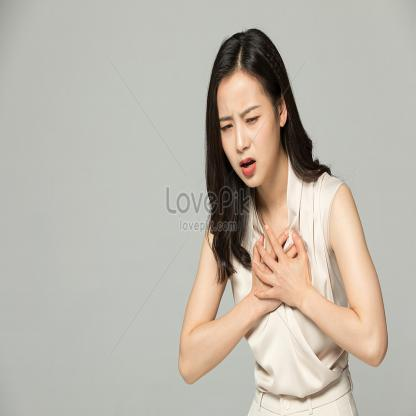pain: (215, 103, 265, 136)
